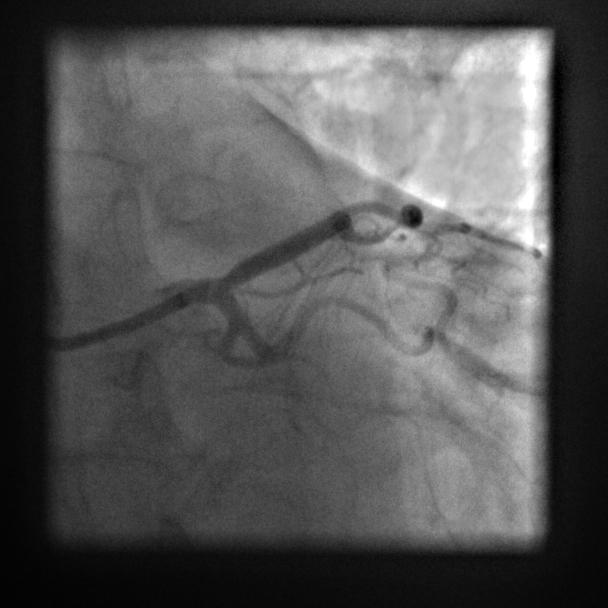Stenosis: (208, 262, 245, 285)
